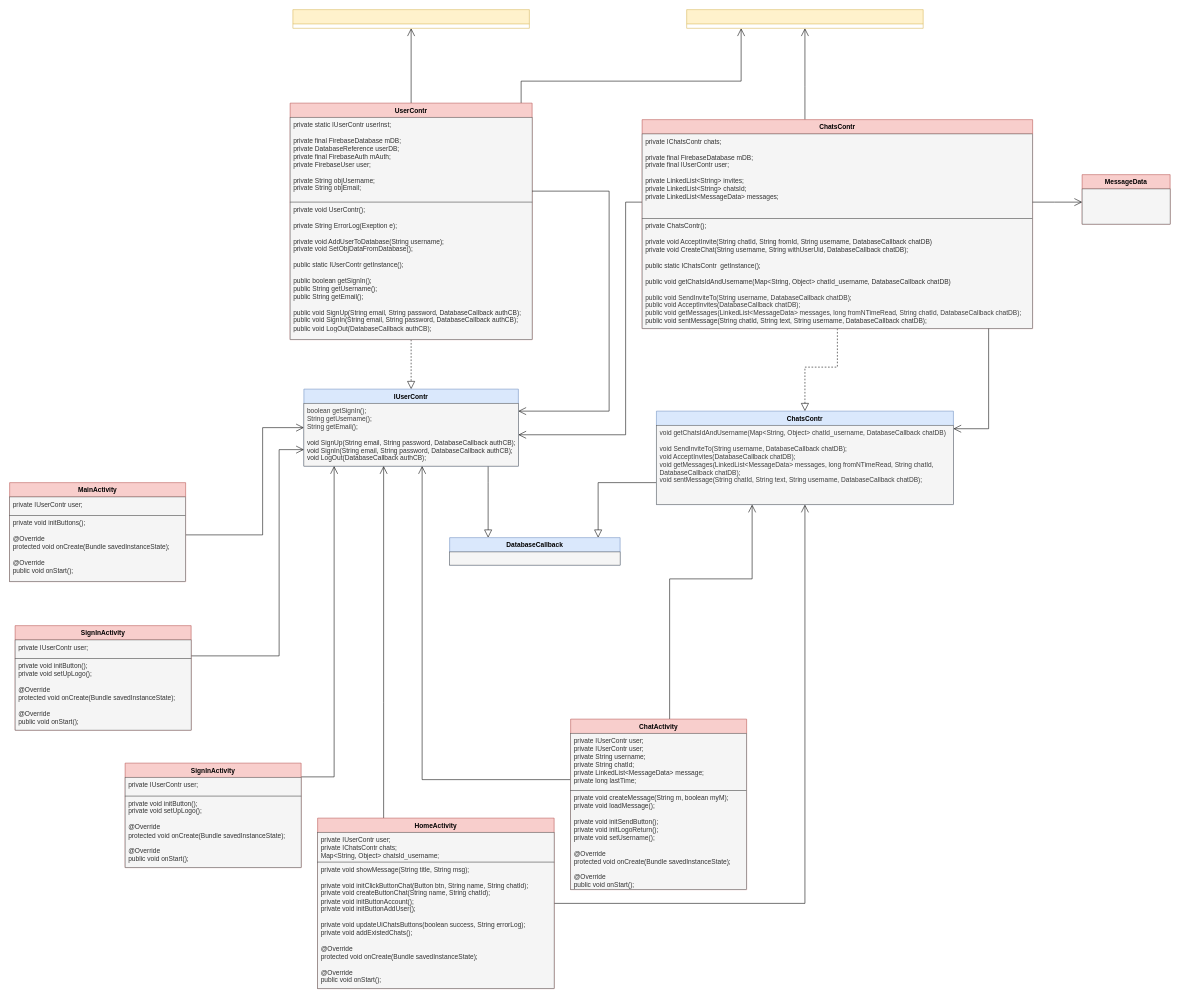
The diagram is 1180 pixels wide and 1000 high, and some of its shapes have lost their labels. The shapes that lost their labels are listed below. From the top down, each one's centre as x and y in pixels, then its label:
point (410, 18): FirebaseAuth
point (804, 18): FirebaseDatabase
point (1126, 206): public String username; public String message; public long time;
point (534, 558): void onCompose(boolean success, String ErrorLog);
